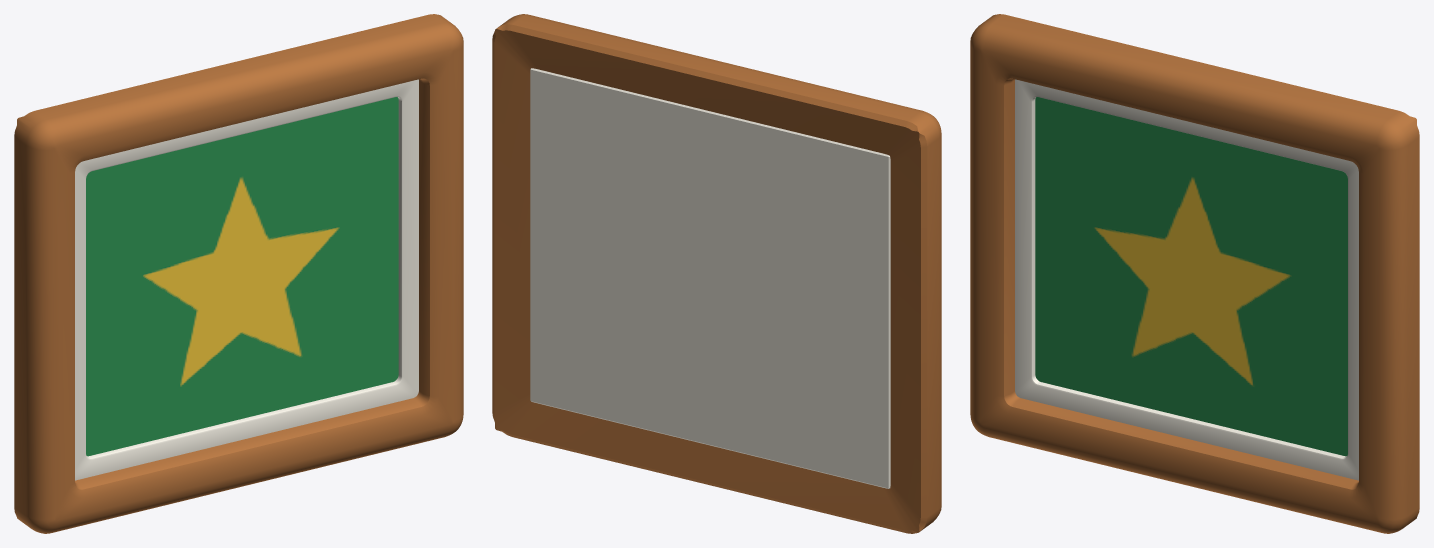
The model's file is quadro_estrela.glb.
3 renders of one model, left to right at view 1: azimuth 30°, elevation 25°; view 2: azimuth 150°, elevation 25°; view 3: azimuth 330°, elevation 25°, orthographic.
Visible parts, largest first — view 1: quadro_estrela; view 2: quadro_estrela; view 3: quadro_estrela.
Part boxes in pixels (x1=…): quadro_estrela: x1=14, y1=14, x2=463, y2=533; quadro_estrela: x1=492, y1=14, x2=941, y2=533; quadro_estrela: x1=970, y1=14, x2=1419, y2=533.
Size of the model in its own units: 0.304 by 0.2753 by 0.03.
2 materials, 2 textured.
